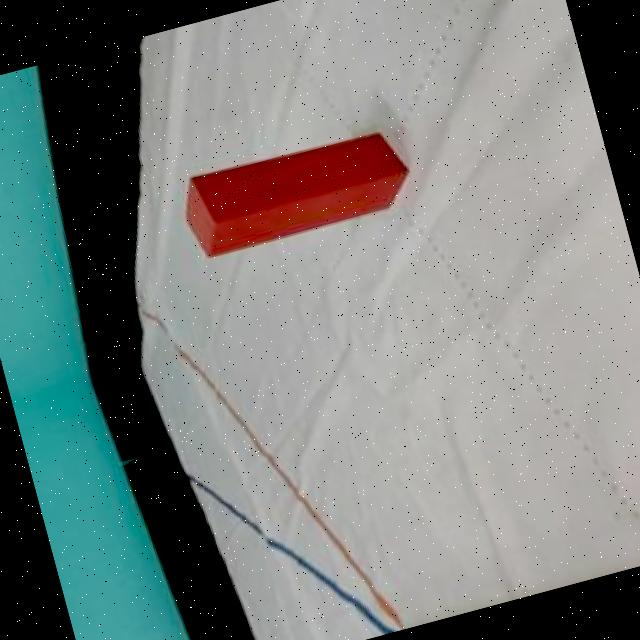redbox: (173, 120, 418, 262)
